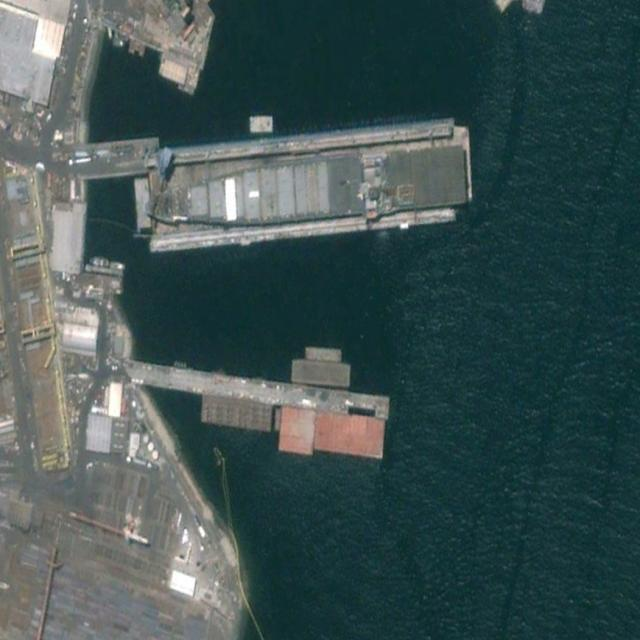Other Ship: (142, 142, 467, 240)
